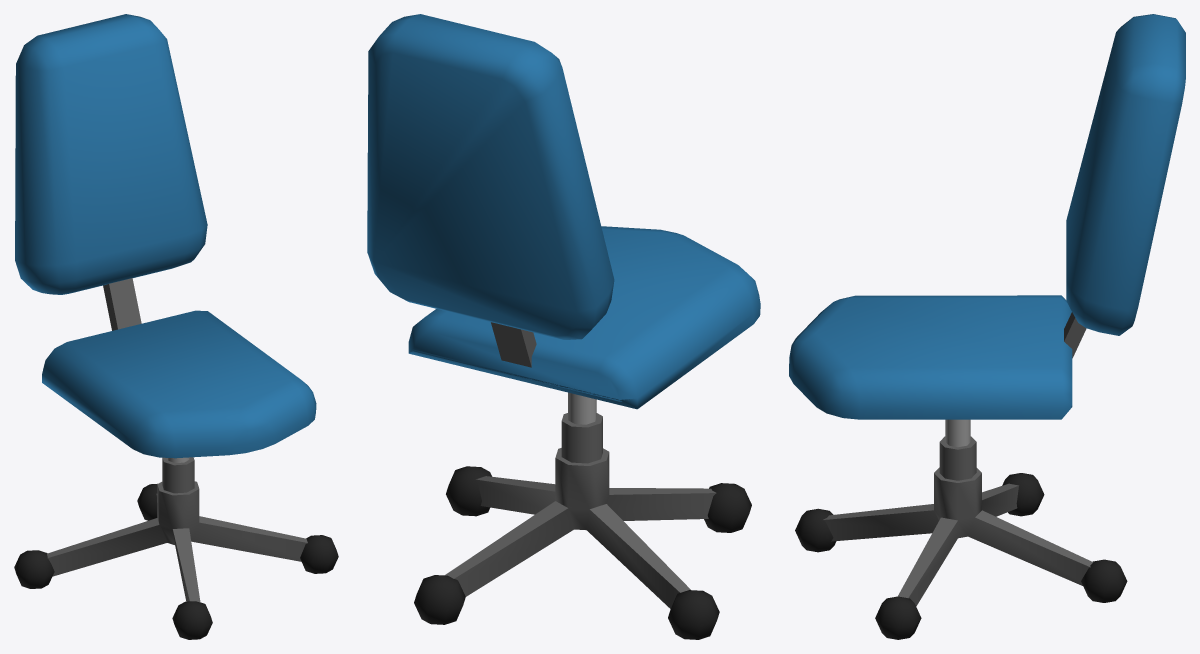
The model's file is Chair-1.fbx.
The picture shows the model from 3 angles, left to right: view 1: azimuth 30°, elevation 25°; view 2: azimuth 150°, elevation 25°; view 3: azimuth 270°, elevation 25°; orthographic projection. The views are drawn at different scales.
Parts seen in each view (by area): view 1: Chair-1; view 2: Chair-1; view 3: Chair-1.
Boxes of the visible parts, x1=… form: Chair-1: x1=14, y1=14, x2=338, y2=639; Chair-1: x1=367, y1=14, x2=760, y2=639; Chair-1: x1=789, y1=14, x2=1185, y2=639.
Bounding box in the file's own units: 0.5119 × 0.9001 × 0.5996.
